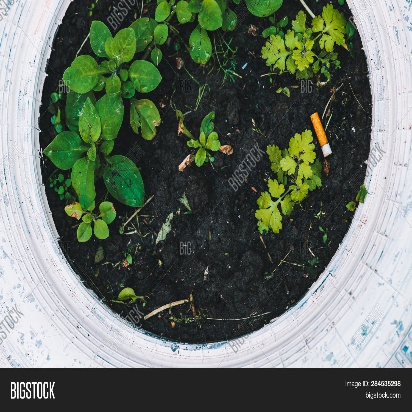cigarette: (309, 111, 339, 163)
